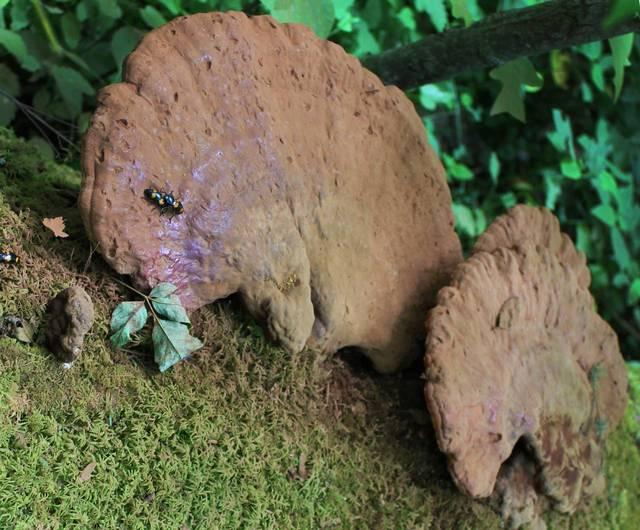poisonous_mushroom: (76, 8, 464, 374), (419, 202, 629, 529)
